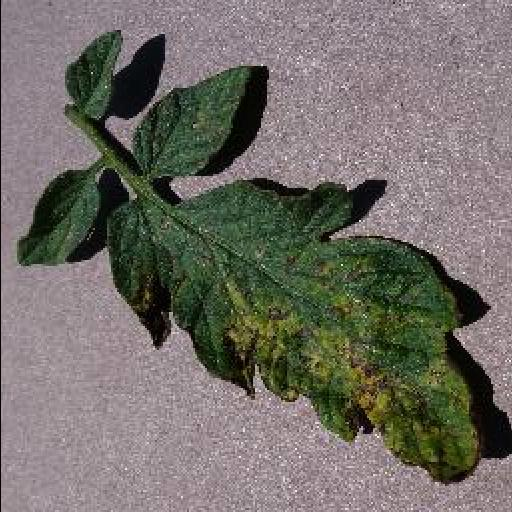disease_tomato: (104, 179, 486, 483)
